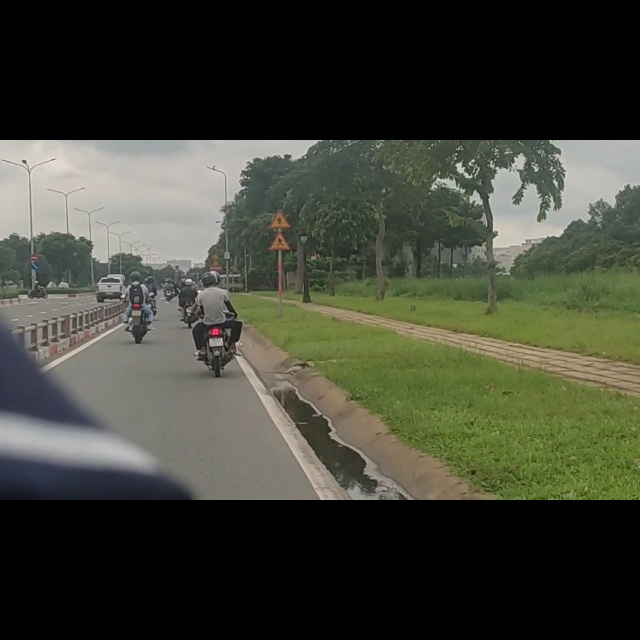bien_cam: (268, 164, 291, 198), (269, 126, 291, 158), (31, 217, 40, 231), (31, 203, 39, 218)
